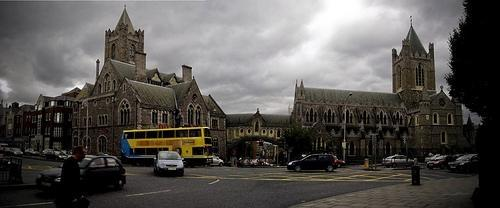bus: (122, 126, 213, 166)
car: (36, 155, 128, 191), (288, 154, 340, 174), (154, 151, 184, 177), (448, 154, 480, 173), (426, 154, 456, 170), (382, 154, 415, 168), (209, 154, 224, 168), (250, 158, 260, 168), (25, 148, 39, 154)
